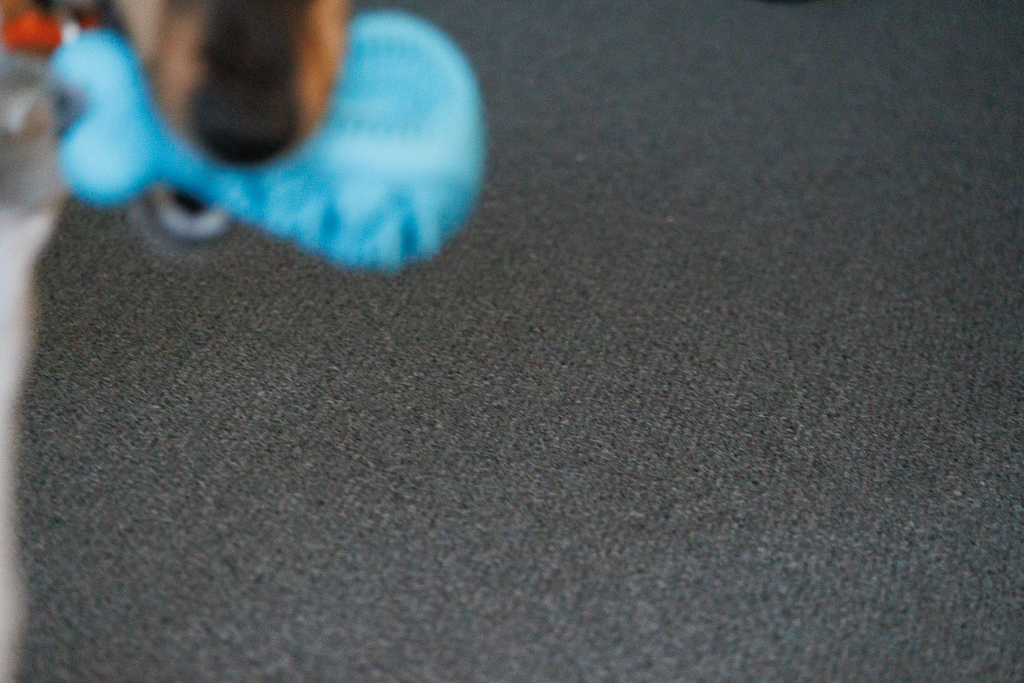Dog: (0, 1, 360, 683)
